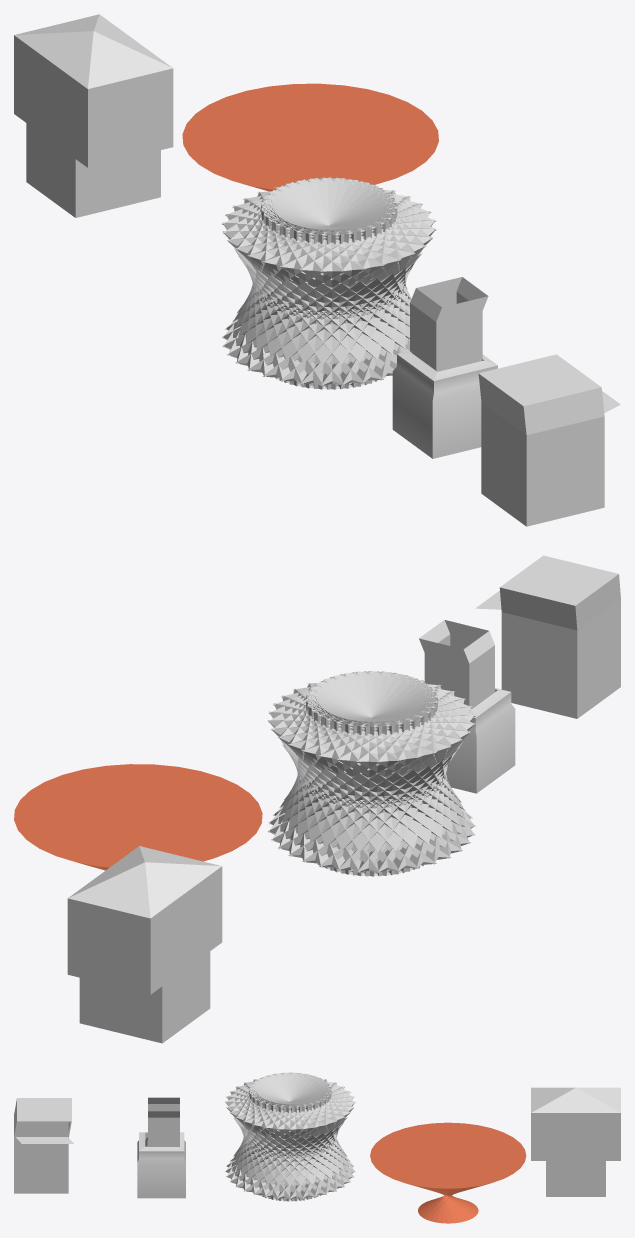
File: Décoration Mudels.dae
The picture shows the model from 3 angles, top to bottom: view 1: azimuth 30°, elevation 25°; view 2: azimuth 150°, elevation 25°; view 3: azimuth 270°, elevation 25°; orthographic projection. The views are drawn at different scales.
Visible parts, largest first — view 1: Cylinder_001, Cube_003, Cylinder_002, Cube_002, Cube, Cube_001; view 2: Cylinder_001, Cube_003, Cylinder_002, Cube_002, Cube_001, Cube; view 3: Cylinder_001, Cylinder_002, Cube_003, Cube_002, Cube, Cube_001.
Boxes of the visible parts, x1,y1,x2,y2 form: Cylinder_001: [222, 177, 436, 389]; Cube_003: [14, 14, 173, 217]; Cylinder_002: [182, 83, 438, 191]; Cube_002: [478, 354, 620, 526]; Cube: [392, 351, 497, 458]; Cube_001: [410, 277, 488, 371]; Cylinder_001: [268, 671, 475, 876]; Cube_003: [67, 846, 222, 1043]; Cylinder_002: [14, 764, 262, 870]; Cube_002: [475, 555, 620, 718]; Cube_001: [419, 620, 494, 708]; Cube: [446, 688, 515, 793]; Cylinder_001: [225, 1072, 355, 1201]; Cylinder_002: [370, 1122, 526, 1223]; Cube_003: [531, 1087, 620, 1196]; Cube_002: [14, 1098, 73, 1193]; Cube: [137, 1132, 185, 1198]; Cube_001: [148, 1097, 179, 1147].
Bounding box in the file's own units: 143 × 391 × 68.59.
